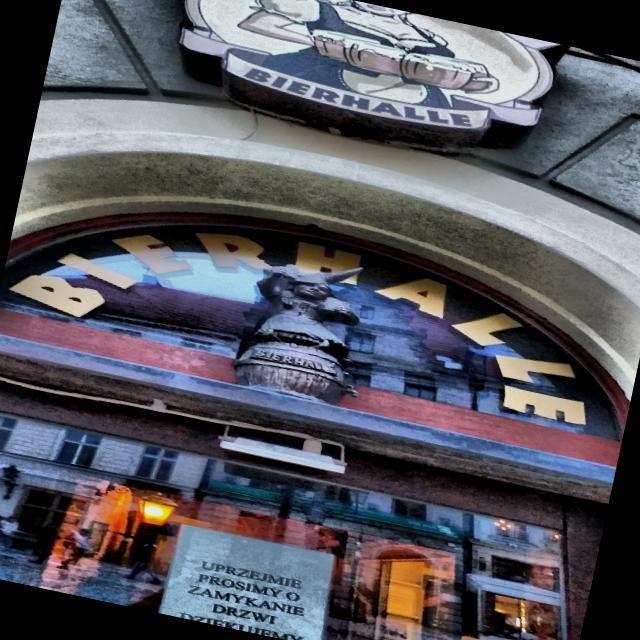Bawarka: (233, 264, 361, 405)
